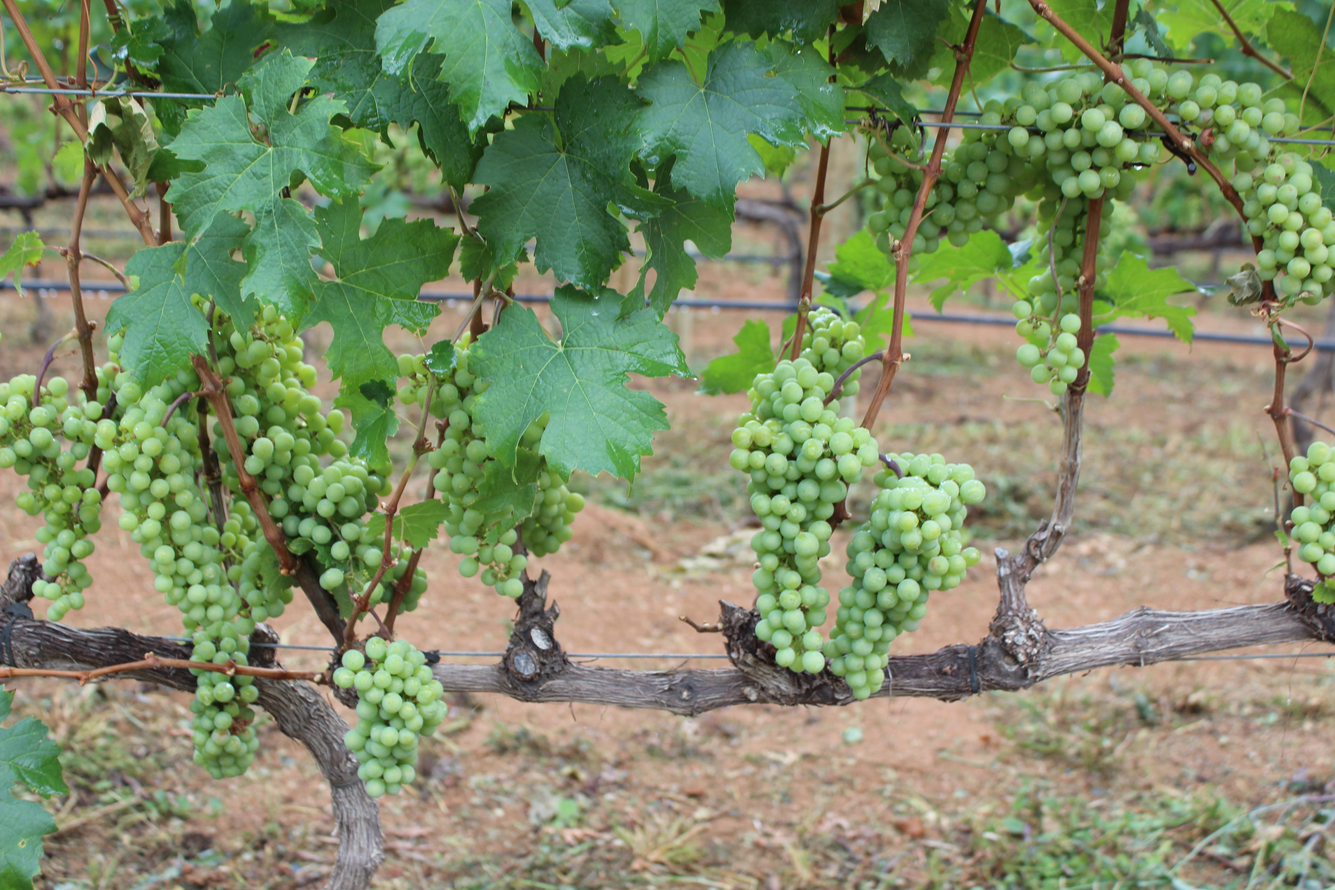leaf: (470, 285, 690, 479), (274, 0, 482, 190), (168, 49, 374, 238), (470, 77, 637, 288), (304, 201, 458, 390), (637, 42, 802, 206), (375, 0, 542, 134), (623, 162, 733, 316), (106, 242, 208, 388), (241, 198, 319, 322), (1095, 252, 1198, 343), (184, 214, 258, 329), (763, 41, 847, 141), (913, 229, 1014, 312), (1266, 10, 1335, 125), (866, 0, 950, 78), (617, 0, 720, 63), (699, 320, 776, 395), (335, 380, 399, 468), (472, 447, 542, 524), (968, 11, 1035, 85), (723, 0, 838, 43), (527, 0, 615, 50), (1156, 0, 1235, 53), (853, 72, 918, 125), (111, 16, 172, 71), (0, 231, 44, 295), (392, 499, 448, 549), (1220, 0, 1293, 35), (1087, 333, 1119, 397), (930, 43, 955, 85), (941, 7, 968, 44), (1305, 17, 1312, 28), (423, 306, 434, 313), (379, 516, 383, 534), (251, 234, 255, 238), (395, 368, 397, 373), (1096, 307, 1098, 310), (247, 244, 249, 247), (974, 235, 976, 237), (354, 416, 355, 420), (390, 377, 392, 379), (215, 217, 217, 219), (1272, 43, 1273, 45), (1091, 0, 1092, 2), (502, 526, 504, 527), (1068, 20, 1069, 20), (382, 443, 382, 443), (382, 526, 382, 530), (767, 0, 767, 2)
